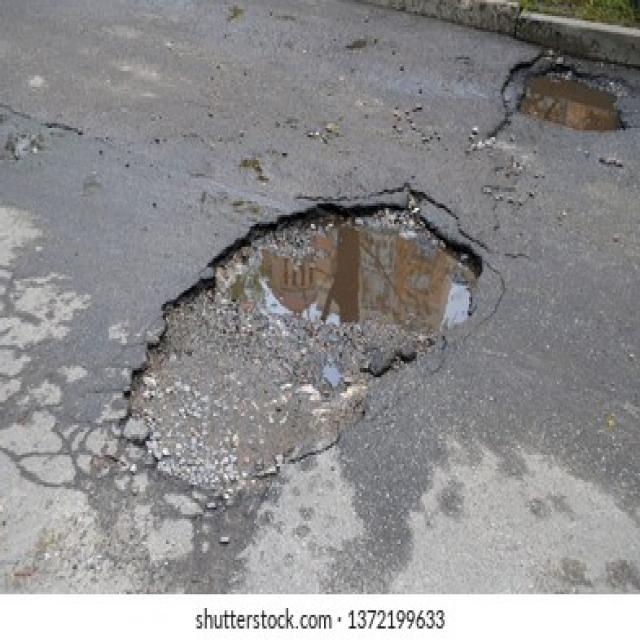Pothole: (124, 196, 482, 494), (503, 50, 632, 142)
